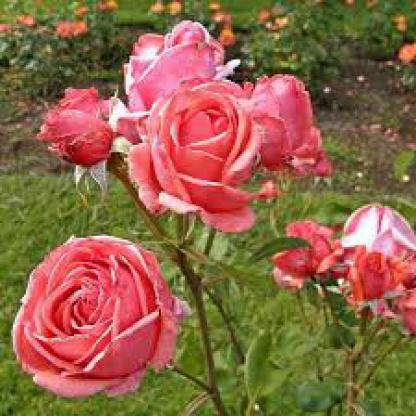Rose-Mawar: (32, 18, 323, 224), (3, 226, 191, 406), (275, 196, 415, 337)
